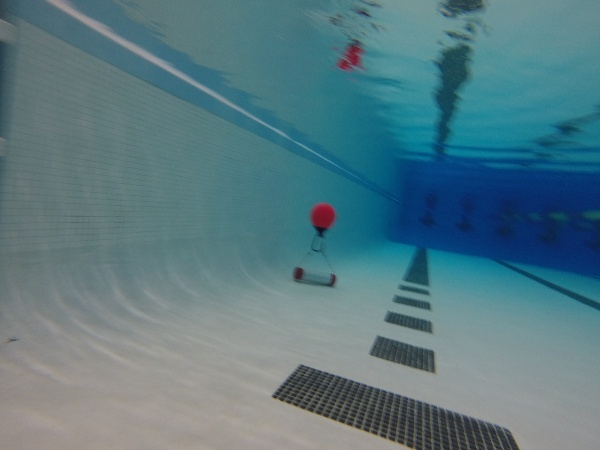buoy_red: (309, 203, 335, 237)
